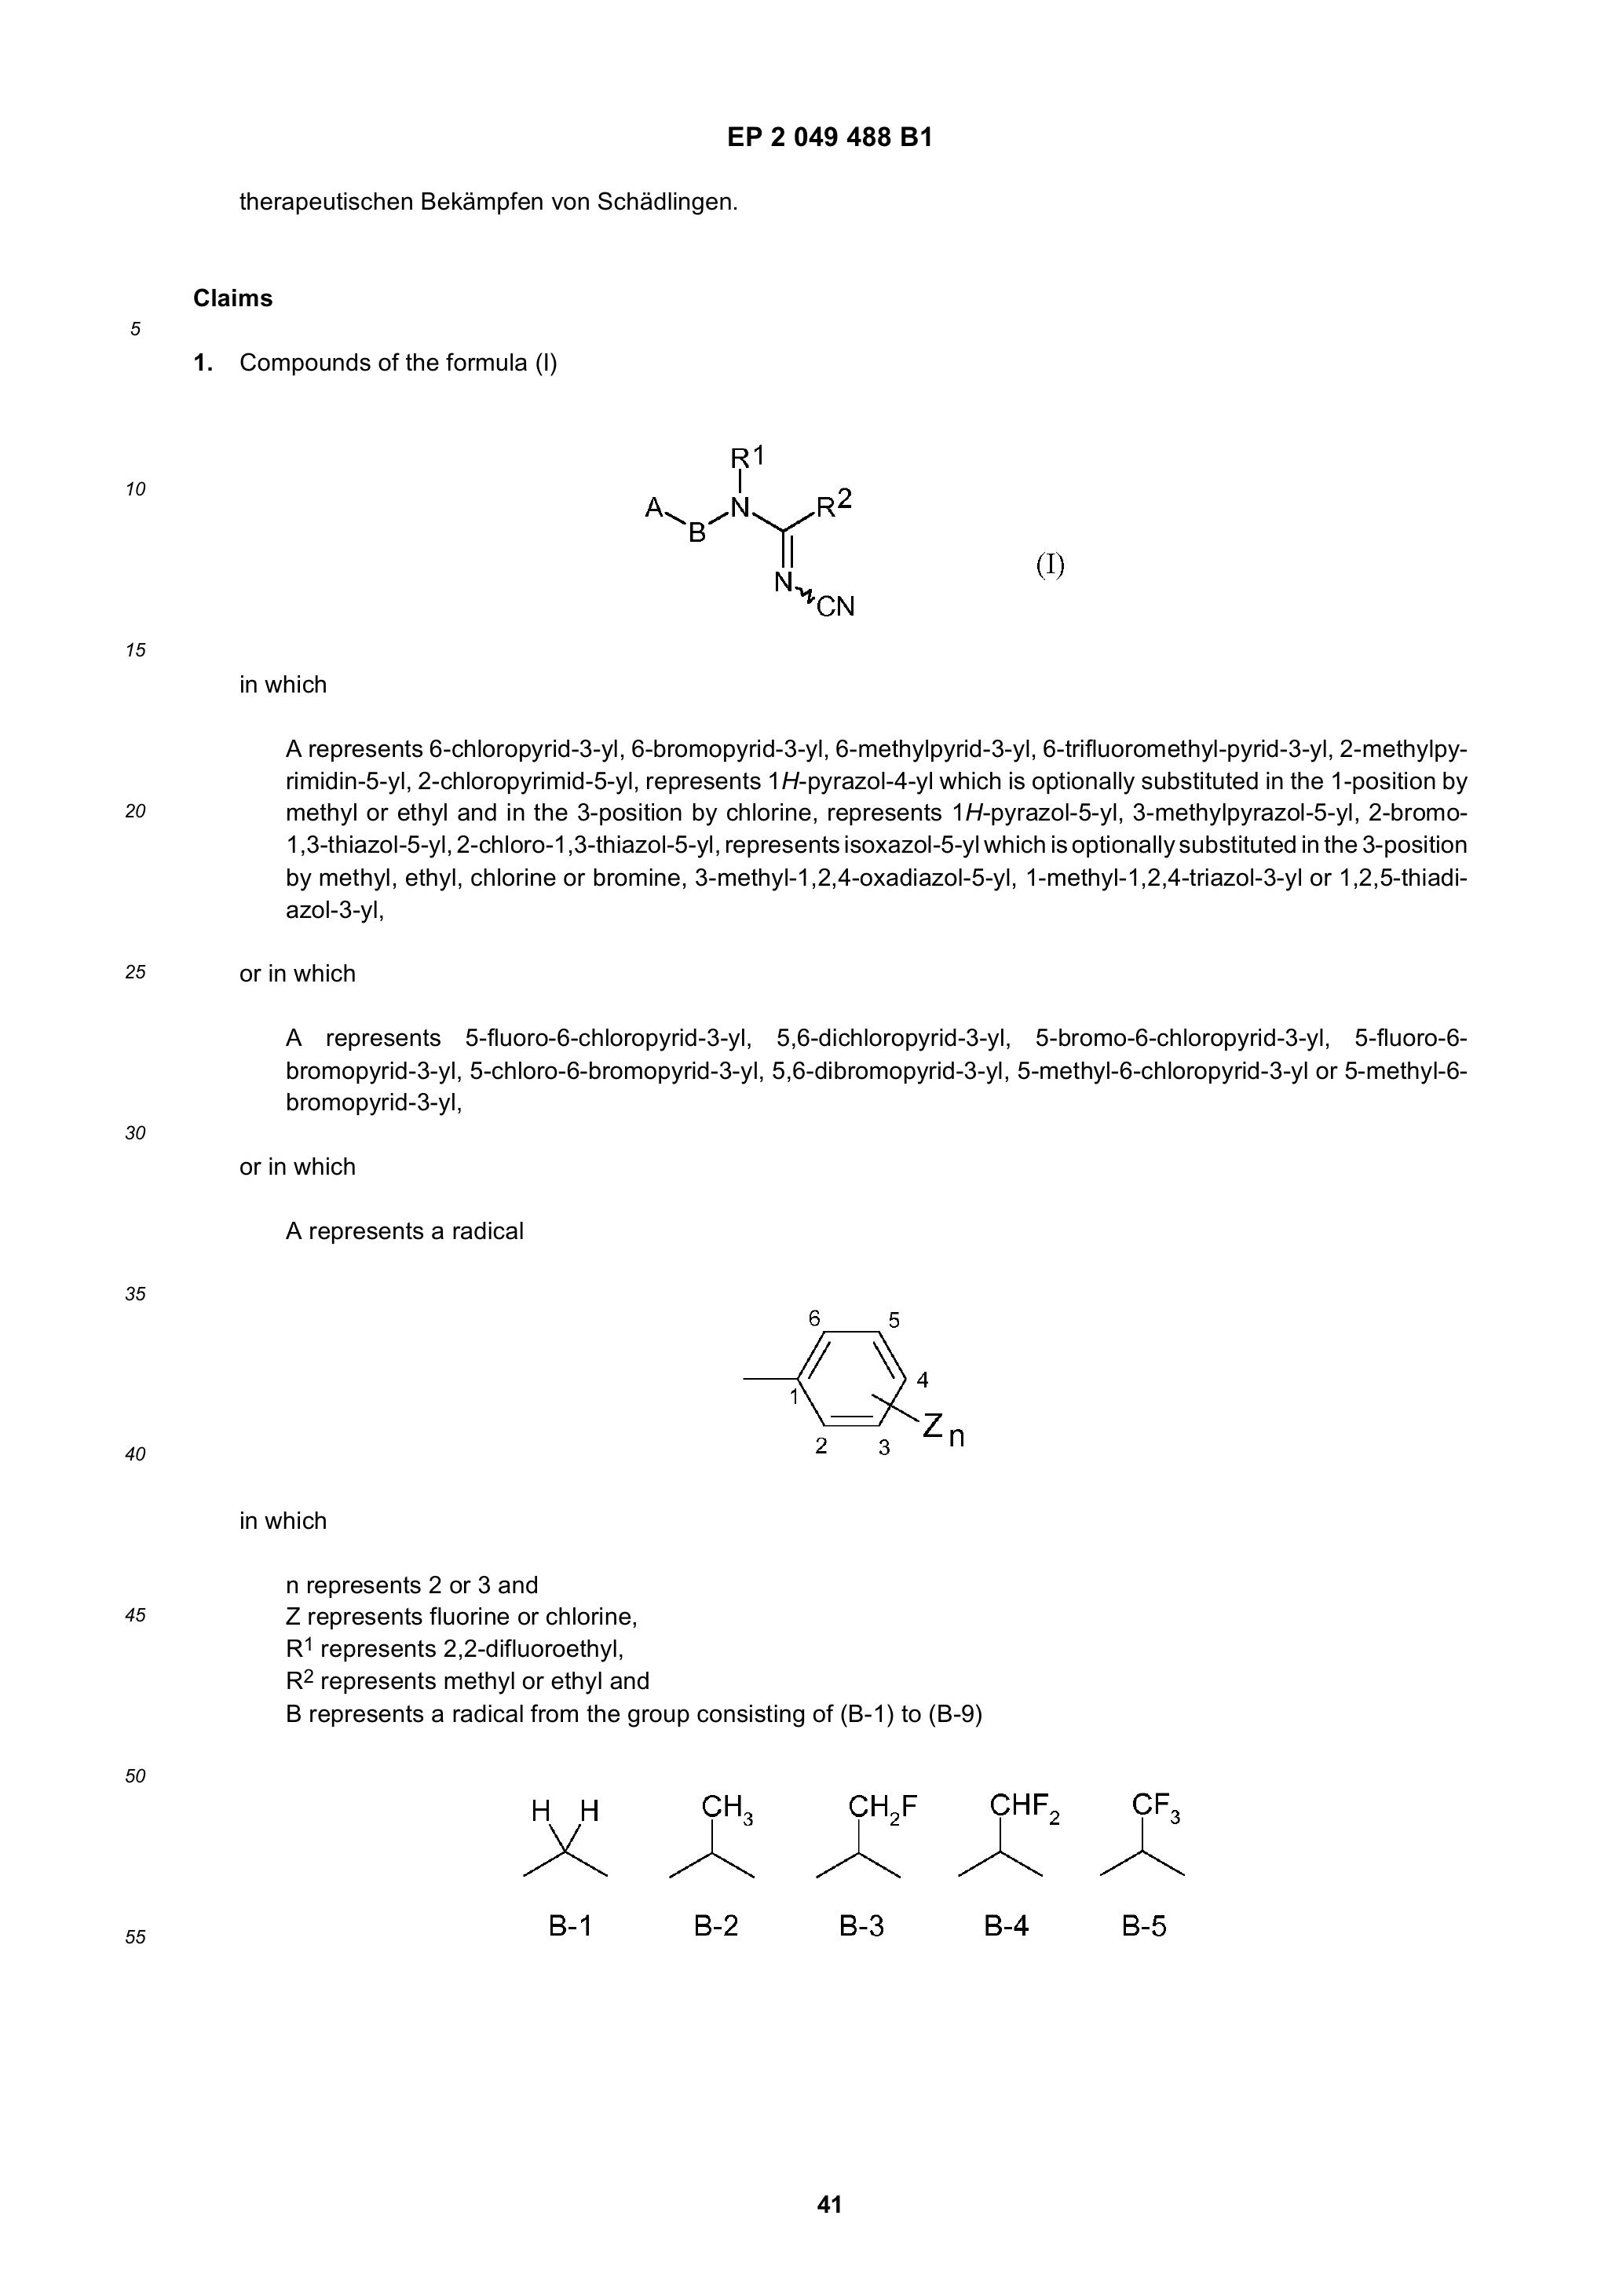markush-structures: (618, 427, 899, 652)
substitutes: (739, 1260, 985, 1488), (492, 1771, 620, 1897), (808, 1771, 929, 1888), (1096, 1774, 1194, 1895), (669, 1783, 762, 1885), (966, 1778, 1052, 1876)
